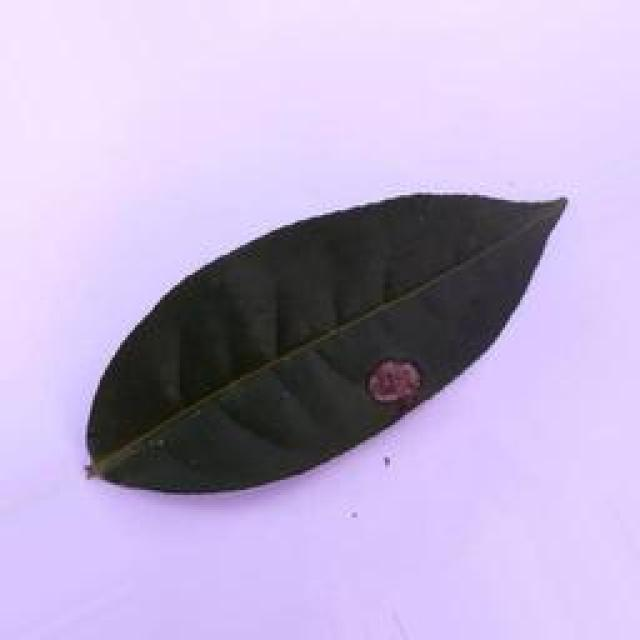Gray Blight: (74, 184, 569, 510)
